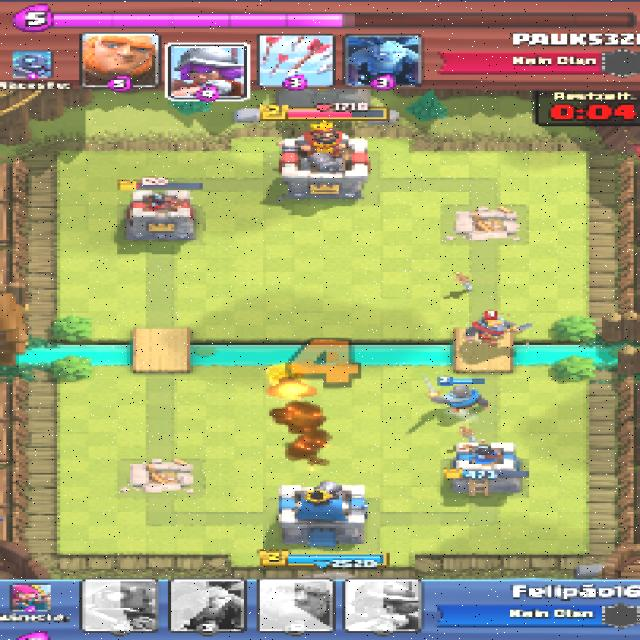Enemy-Knight: (466, 315, 527, 343)
Player-Fireball: (255, 362, 317, 399)
Player-Knight: (425, 385, 491, 416)
